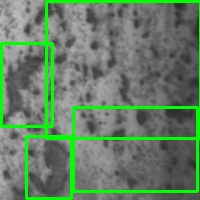patches: (1, 43, 52, 126), (26, 136, 71, 198)
pitted_surface: (46, 1, 200, 138), (73, 107, 197, 191)
